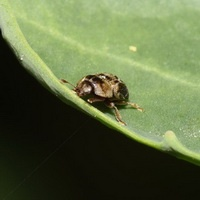insect: (60, 73, 143, 125)
